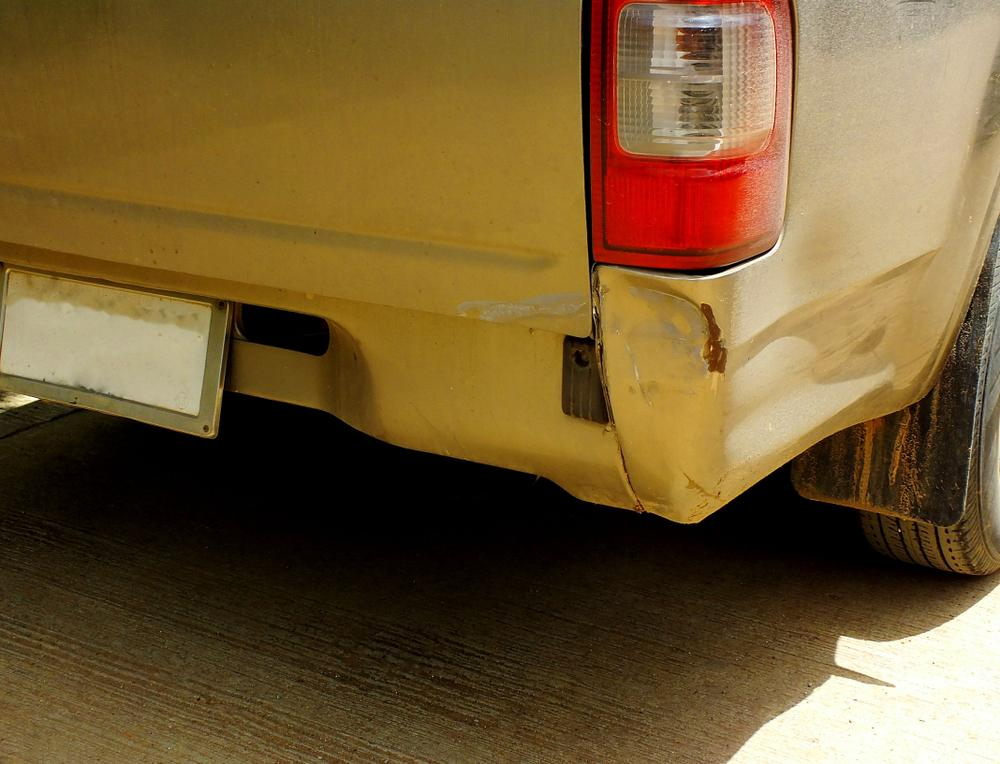dent: (599, 269, 917, 509)
scratch: (454, 287, 583, 325)
